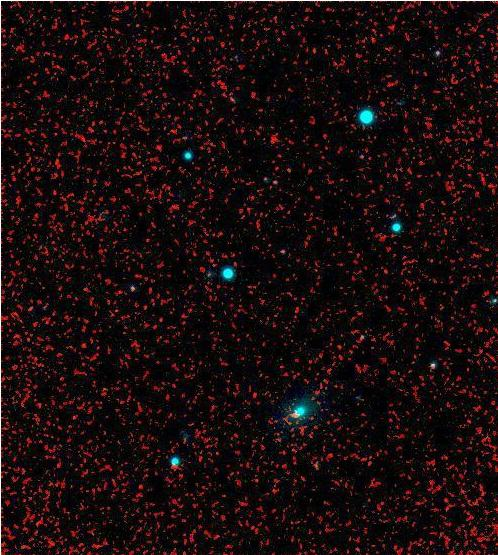star: (257, 124, 287, 154)
